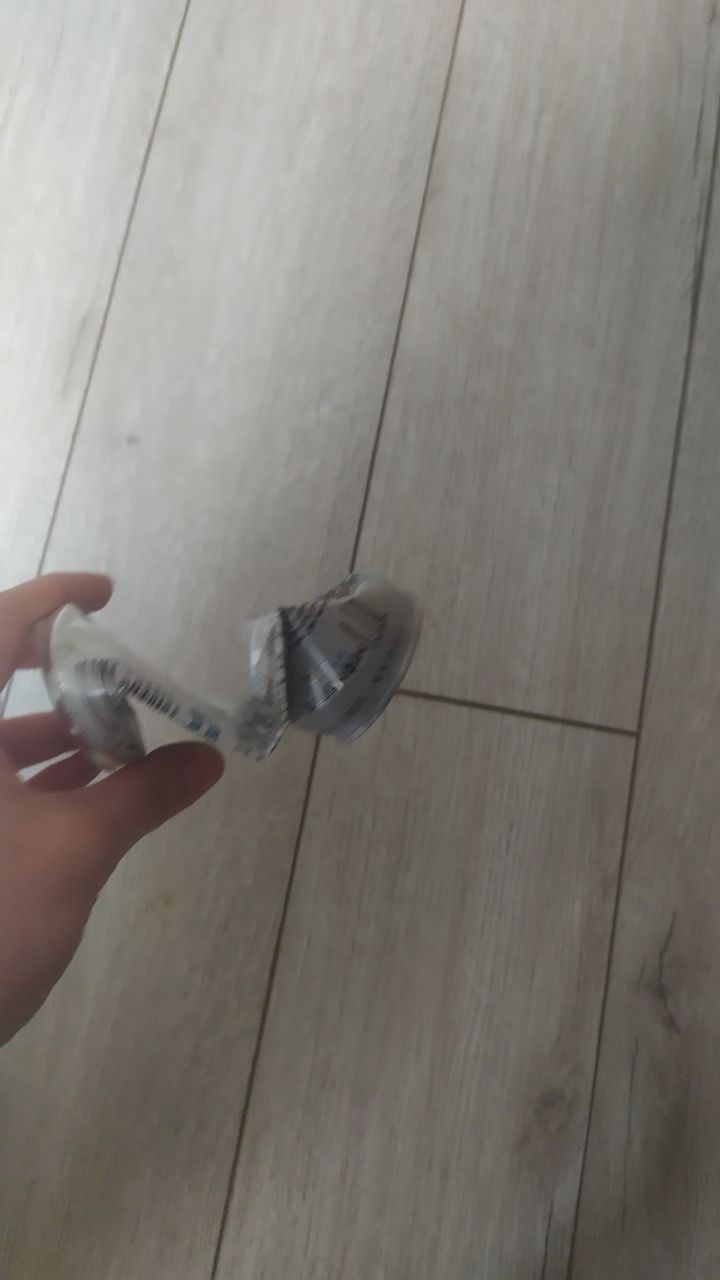Can: (41, 569, 433, 771)
